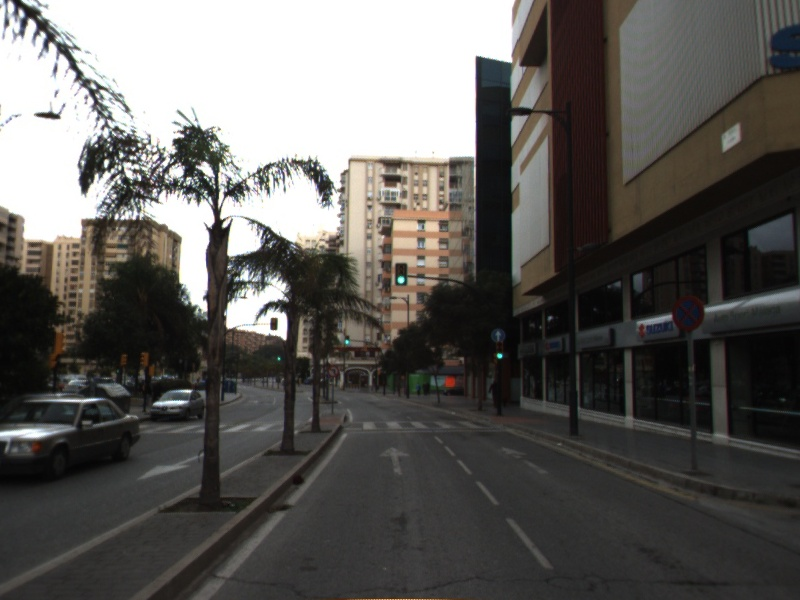STRAIGHT: (499, 444, 552, 476), (376, 444, 412, 477)
